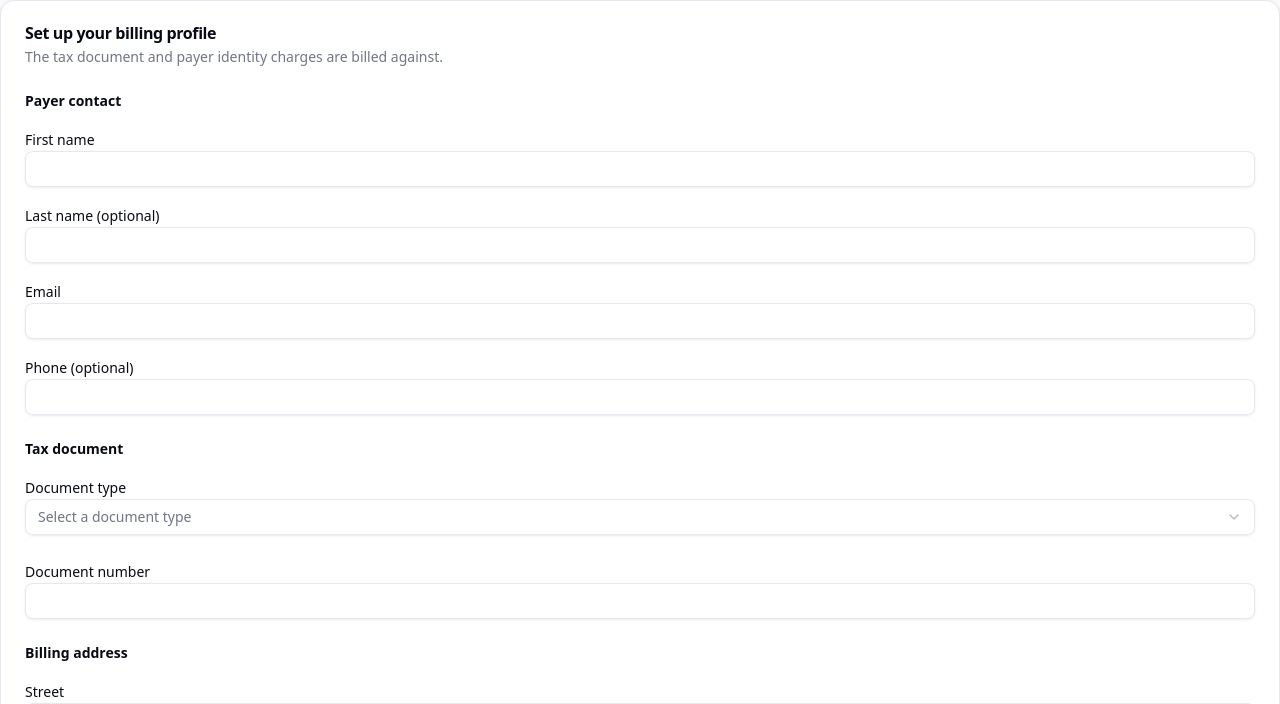
Test: BillingProfileForm (Phase 6) › offers exactly the nine document-type enum values
The image size is (1280, 704).
Click the dropdown labelled "document type": {"x": 115, "y": 516} [25, 499, 1255, 535]
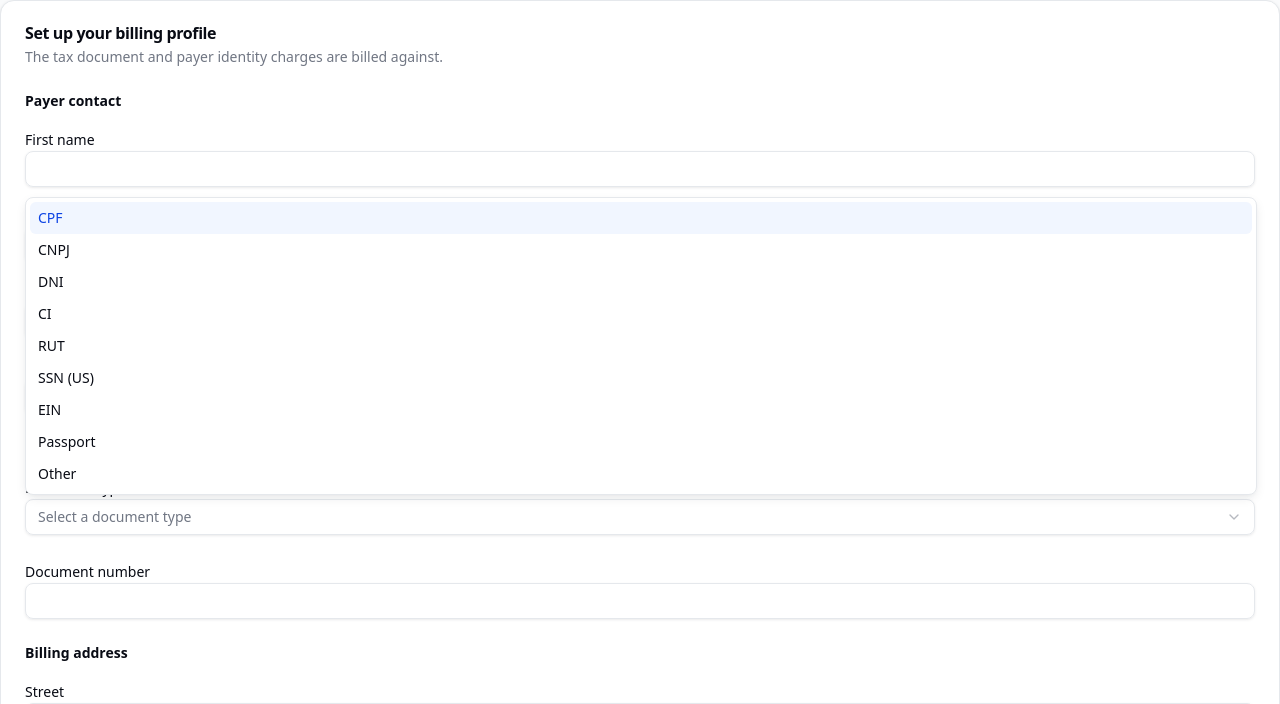
Expected: the number of options is 9
